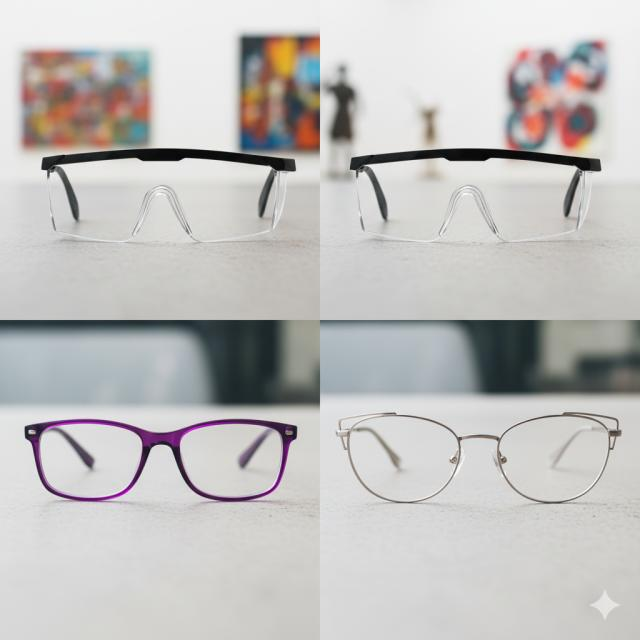oculos-epi: (35, 143, 300, 245), (341, 148, 608, 246)
sem_oculos: (25, 419, 297, 501), (401, 412, 621, 503)
